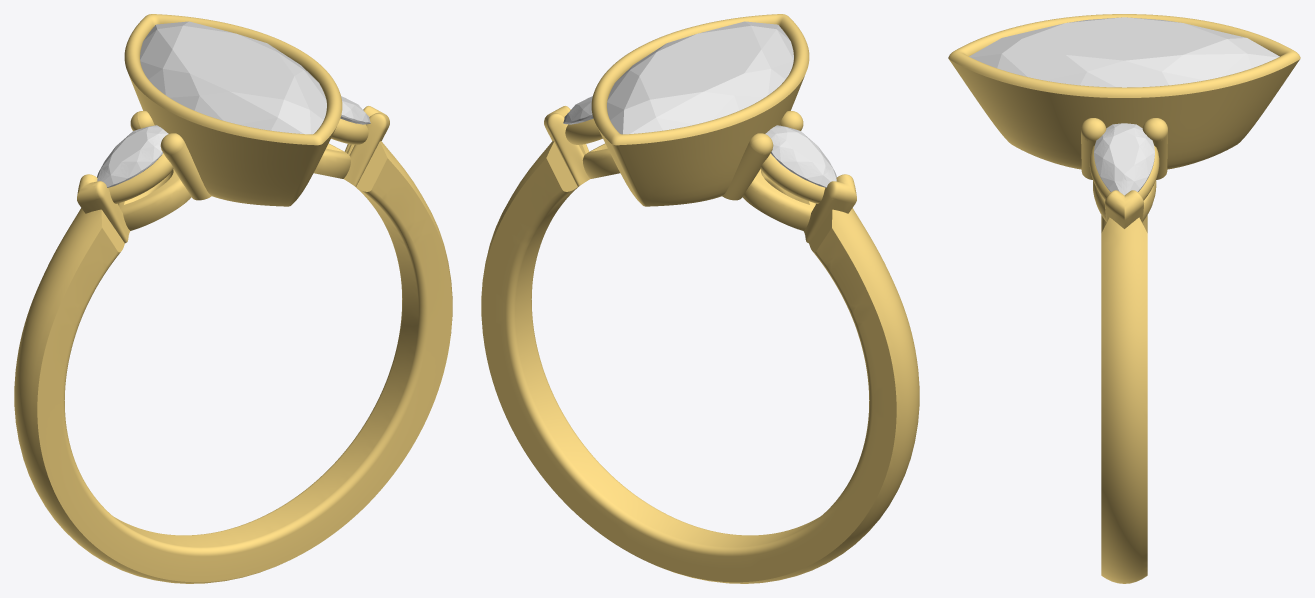
File: JustinYGv2prongs_blender.glb
3 renders of one model, left to right at view 1: azimuth 30°, elevation 25°; view 2: azimuth 150°, elevation 25°; view 3: azimuth 270°, elevation 25°, orthographic.
Visible parts, largest first — view 1: Justin v2 YG for 3d model, Justin marquise dia for 3d model, Justin pear dia for 3d model.001; view 2: Justin v2 YG for 3d model, Justin marquise dia for 3d model, Justin pear dia for 3d model.001; view 3: Justin v2 YG for 3d model, Justin marquise dia for 3d model, Justin pear dia for 3d model.
Part boxes in pixels (bbox=[...]): Justin v2 YG for 3d model: bbox=[14, 14, 452, 583]; Justin marquise dia for 3d model: bbox=[140, 21, 326, 134]; Justin pear dia for 3d model.001: bbox=[97, 125, 168, 187]; Justin v2 YG for 3d model: bbox=[481, 14, 919, 583]; Justin marquise dia for 3d model: bbox=[607, 21, 793, 134]; Justin pear dia for 3d model.001: bbox=[765, 125, 836, 187]; Justin v2 YG for 3d model: bbox=[948, 14, 1300, 583]; Justin marquise dia for 3d model: bbox=[969, 17, 1279, 87]; Justin pear dia for 3d model: bbox=[1094, 123, 1154, 195].
Bounding box in the file's own units: 20.7 × 23.65 × 14.49.
